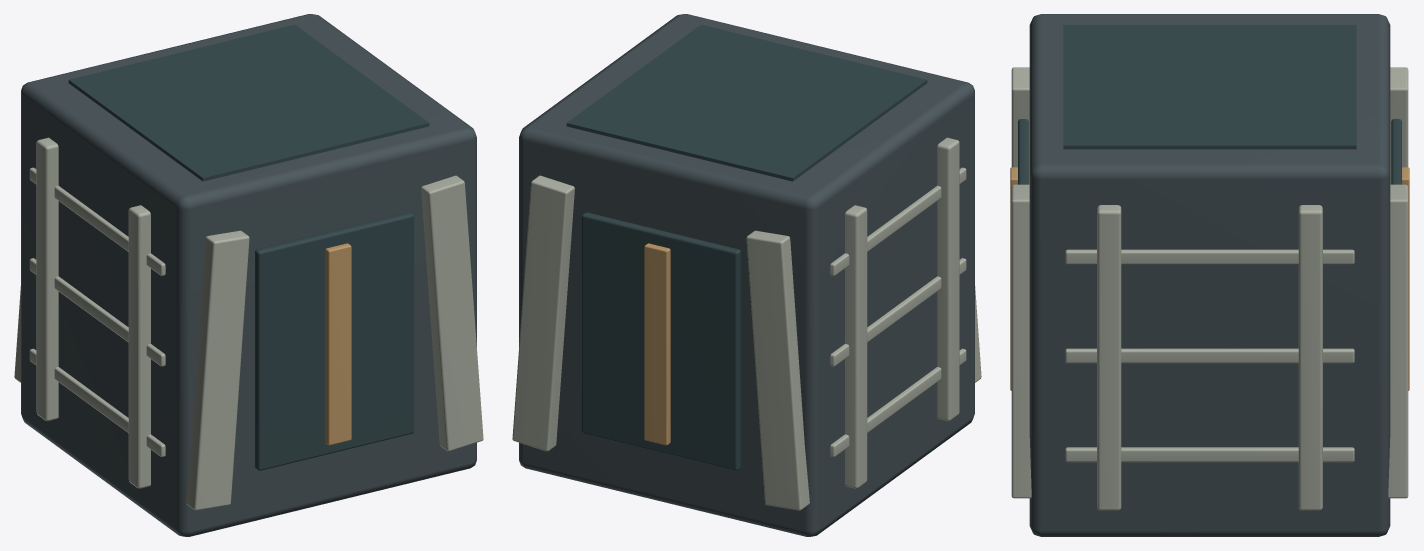
Rendered from gate-shaft-1.glb.
The picture shows the model from 3 angles, left to right: view 1: azimuth 30°, elevation 25°; view 2: azimuth 150°, elevation 25°; view 3: azimuth 270°, elevation 25°; orthographic projection. The views are drawn at different scales.
Parts seen in each view (by area): view 1: gate_0, gate_2, gate_1, gate_3; view 2: gate_0, gate_2, gate_1, gate_3; view 3: gate_0, gate_1, gate_2, gate_3.
Part boxes in pixels (x1,y1,x2,y2): gate_0: (21, 14, 476, 536); gate_2: (68, 24, 429, 470); gate_1: (14, 137, 483, 510); gate_3: (325, 243, 351, 445); gate_0: (519, 14, 974, 536); gate_2: (566, 24, 927, 470); gate_1: (512, 137, 981, 510); gate_3: (644, 243, 670, 445); gate_0: (1029, 14, 1390, 536); gate_1: (1011, 67, 1408, 510); gate_2: (1018, 25, 1401, 184); gate_3: (1010, 167, 1409, 390).
Size of the model in its own units: 0.974 by 1 by 0.952.
